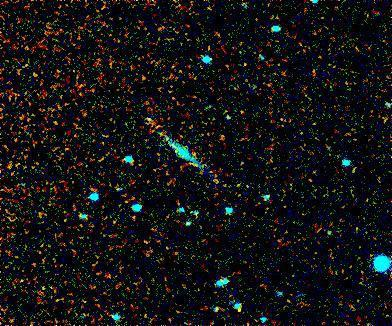star: (131, 102, 161, 132)
